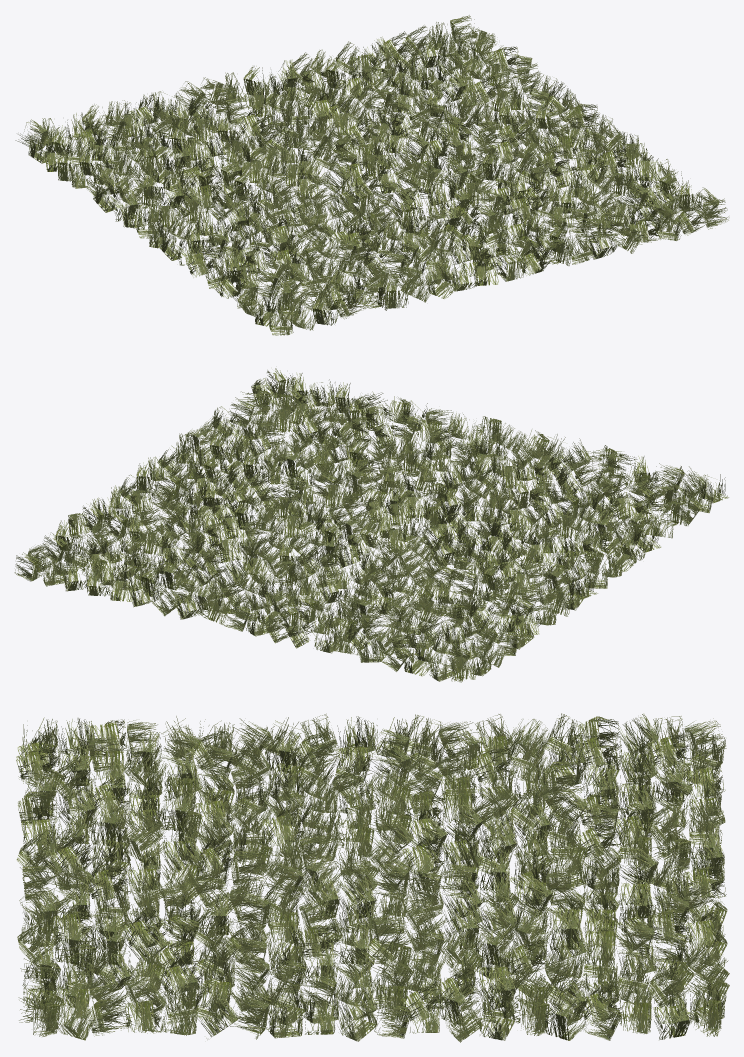
Rendered from grass.fbx.
3 views of the same model, one above another, from view 1: azimuth 30°, elevation 25°; view 2: azimuth 150°, elevation 25°; view 3: azimuth 270°, elevation 25° (orthographic). The views are drawn at different scales.
Parts seen in each view (by area): view 1: Kostka.296; view 2: Kostka.296; view 3: Kostka.296.
Part boxes in pixels (x1=…): Kostka.296: x1=15, y1=15, x2=729, y2=335; Kostka.296: x1=14, y1=368, x2=728, y2=682; Kostka.296: x1=16, y1=713, x2=729, y2=1042.
Bounding box in the file's own units: 4906 × 283 × 4902.
1 material, 1 textured.
